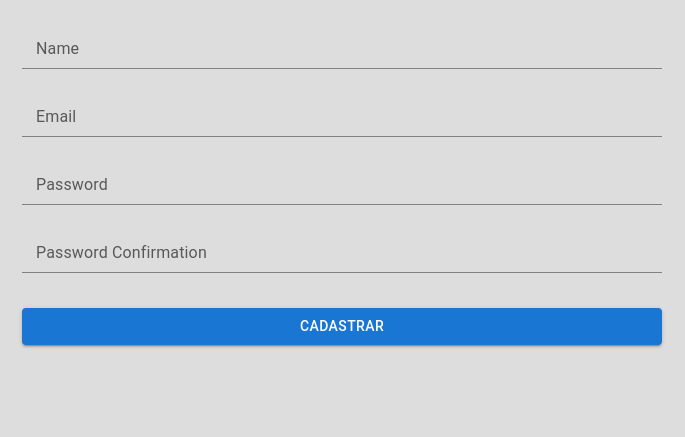
Test: Suit de Testes SignUp Page › Should show error messages WHEN email field is not valid
The image size is (685, 437).
In the field named "email" next to "Email": (342, 121) x1=22 y1=105 x2=662 y2=137, type "ok"
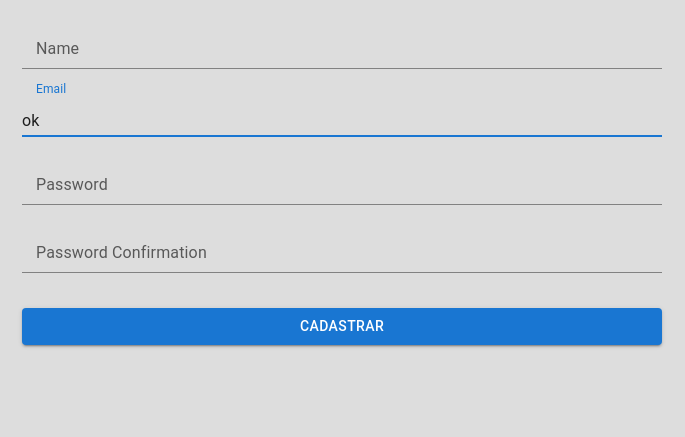
In the 1st password field named "password": (342, 189) x1=22 y1=173 x2=662 y2=205, type "123456"
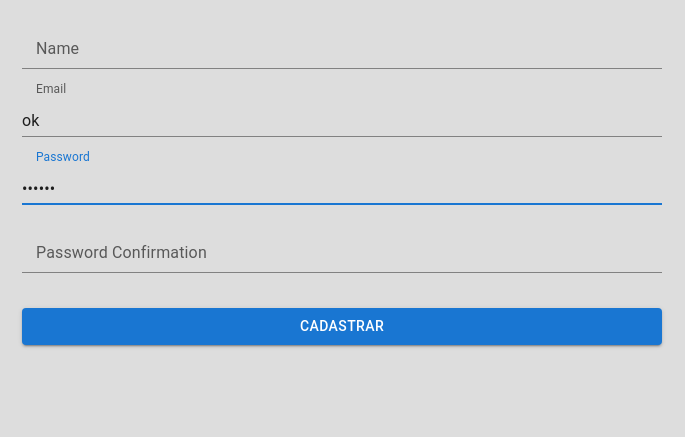
In the password field named "password_confirmation" next to "Password Confirmation": (342, 257) x1=22 y1=241 x2=662 y2=273, type "123456"
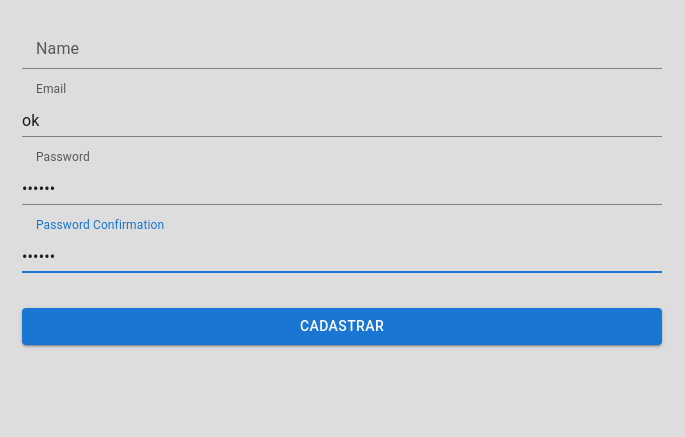
In the field named "name" next to "Name": (342, 53) x1=22 y1=37 x2=662 y2=69, type "test"
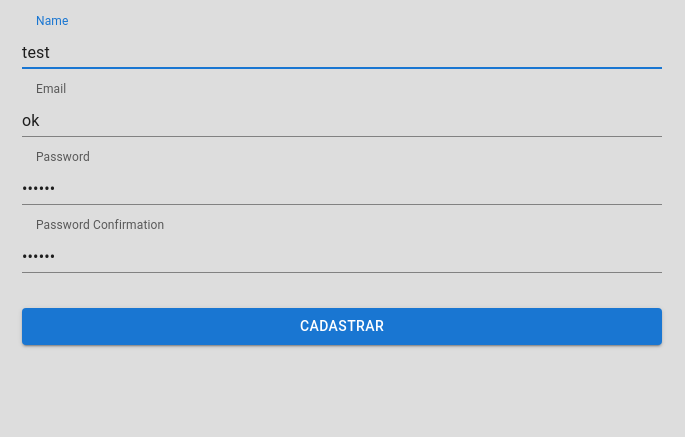
Click the button "Cadastrar": (342, 326) x1=22 y1=308 x2=662 y2=344
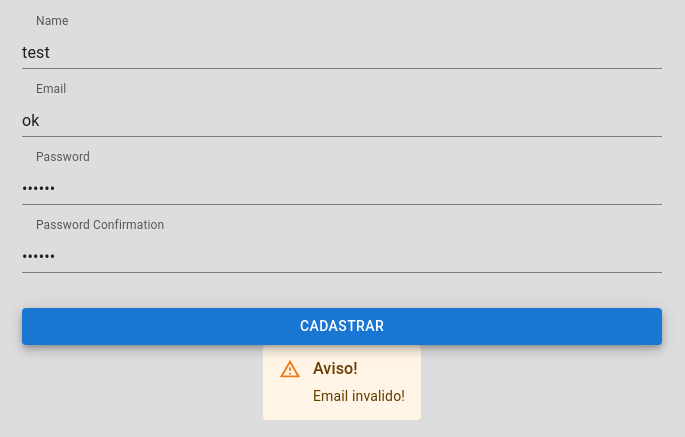
Expected: the element showing "Aviso! Email invalido!" is shown, x1=313 y1=350 x2=405 y2=414
